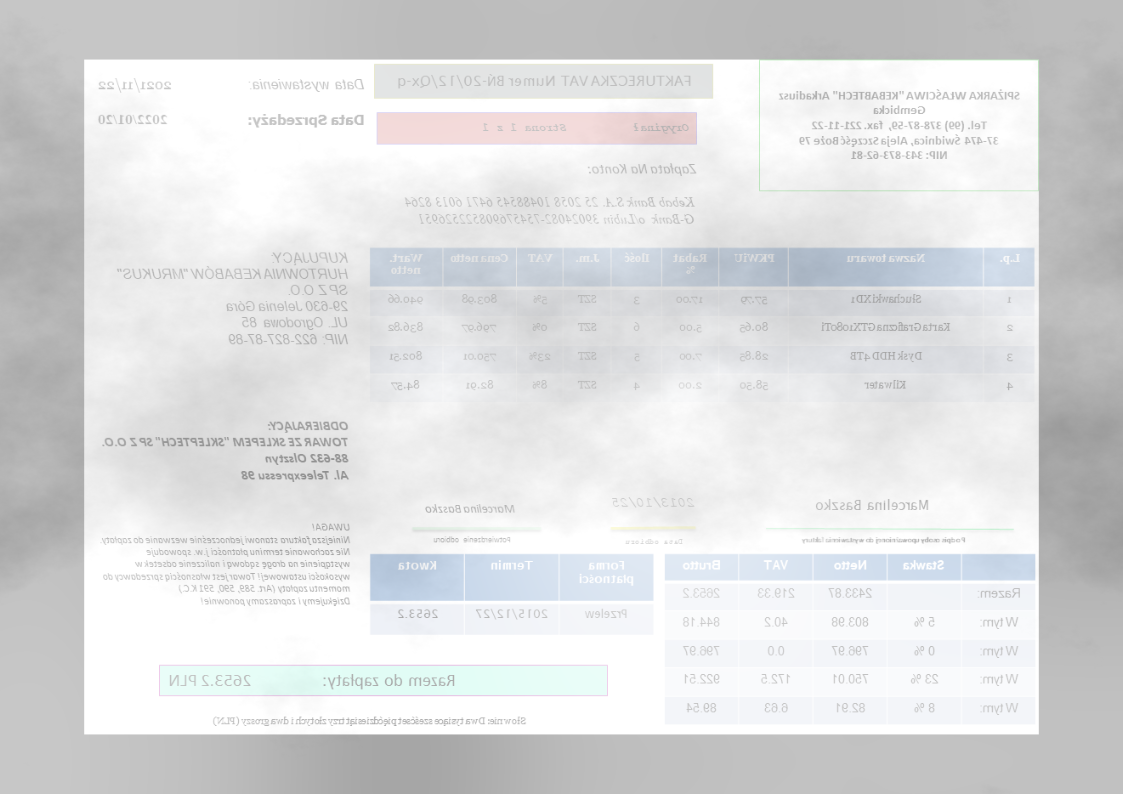Table: (367, 244, 1036, 403), (663, 553, 1037, 726), (369, 553, 655, 636)
TextBox: (115, 248, 352, 348), (100, 520, 353, 609), (778, 85, 1023, 162), (100, 417, 352, 484), (403, 192, 696, 227), (395, 71, 695, 92), (169, 670, 457, 690), (211, 712, 529, 728), (479, 119, 692, 137), (244, 111, 366, 131), (247, 75, 367, 94), (584, 159, 699, 178), (800, 535, 968, 547), (815, 497, 931, 513), (95, 76, 176, 94), (423, 502, 517, 516), (94, 111, 171, 128), (609, 495, 697, 509), (432, 534, 513, 545), (624, 535, 684, 547)
